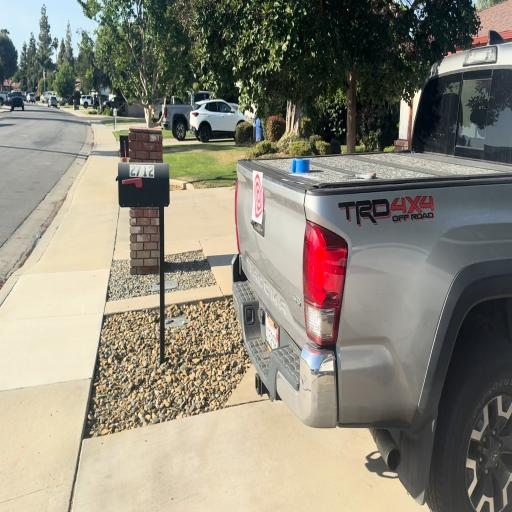bullseye: (251, 170, 263, 225)
